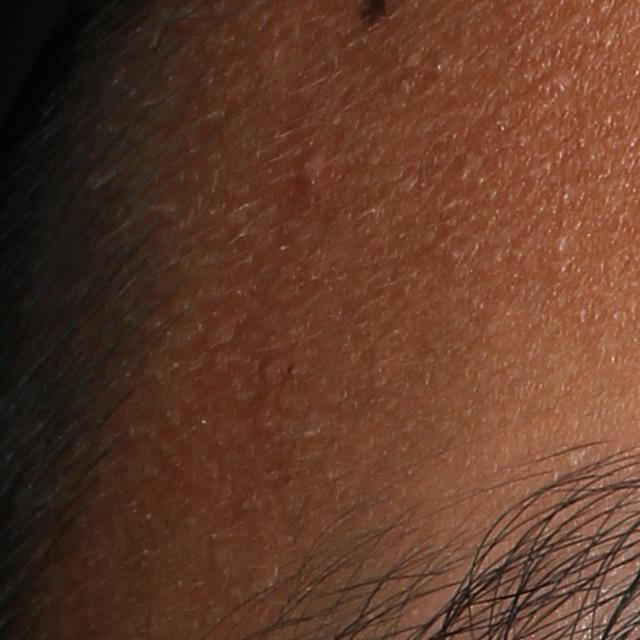comedo: (540, 66, 574, 93), (550, 237, 569, 259)
